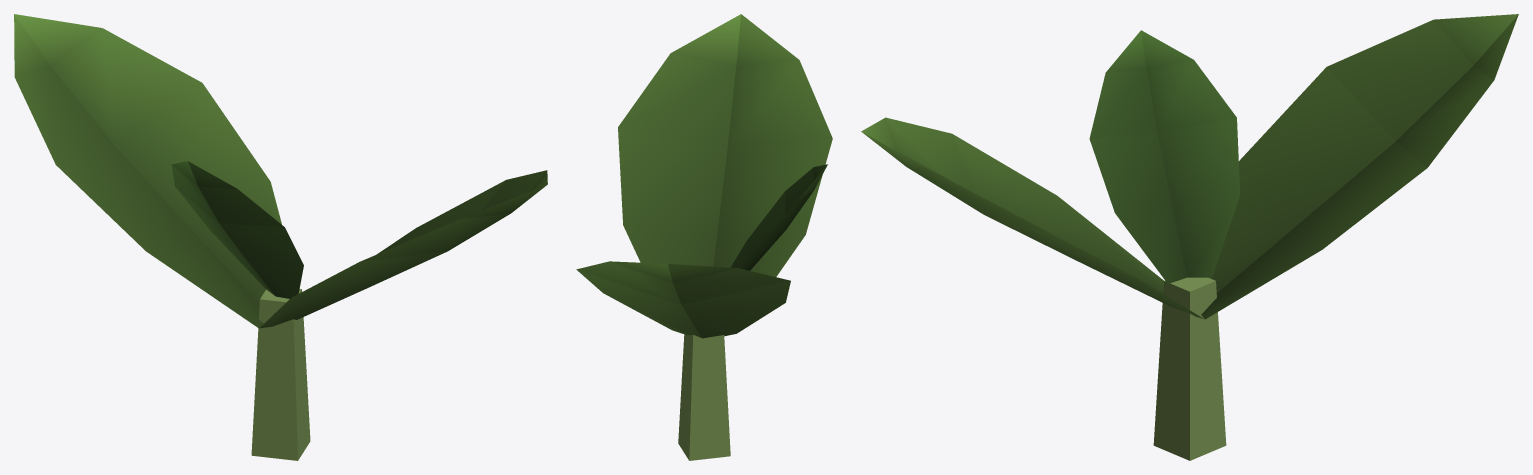
Rendered from crop_turnip_stage0.glb.
3 views of the same model, side by side, from view 1: azimuth 30°, elevation 25°; view 2: azimuth 150°, elevation 25°; view 3: azimuth 270°, elevation 25° (orthographic). The views are drawn at different scales.
Parts seen in each view (by area): view 1: Crop; view 2: Crop; view 3: Crop.
Part boxes in pixels (x1,y1,x2,y2): Crop: (14,14,547,460); Crop: (576,14,832,460); Crop: (861,14,1518,460).
Size of the model in its own units: 0.0765 by 0.0792 by 0.1267.
